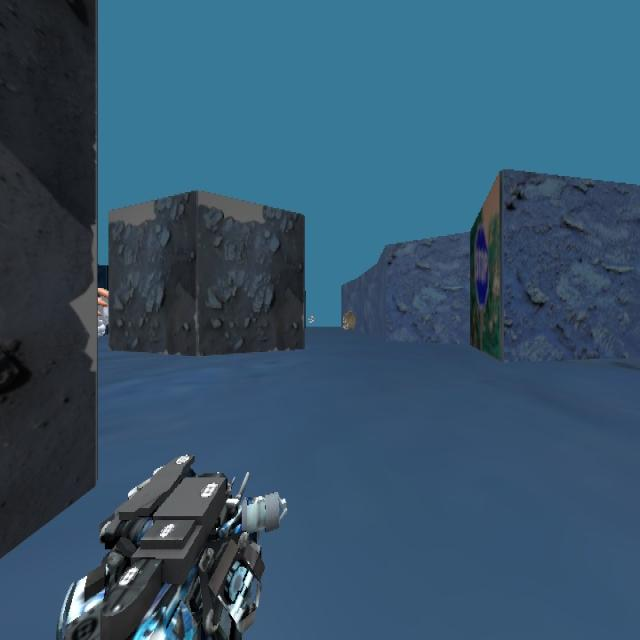Mushroom: (88, 232, 159, 353)
Stop_Sign: (469, 170, 503, 362)
